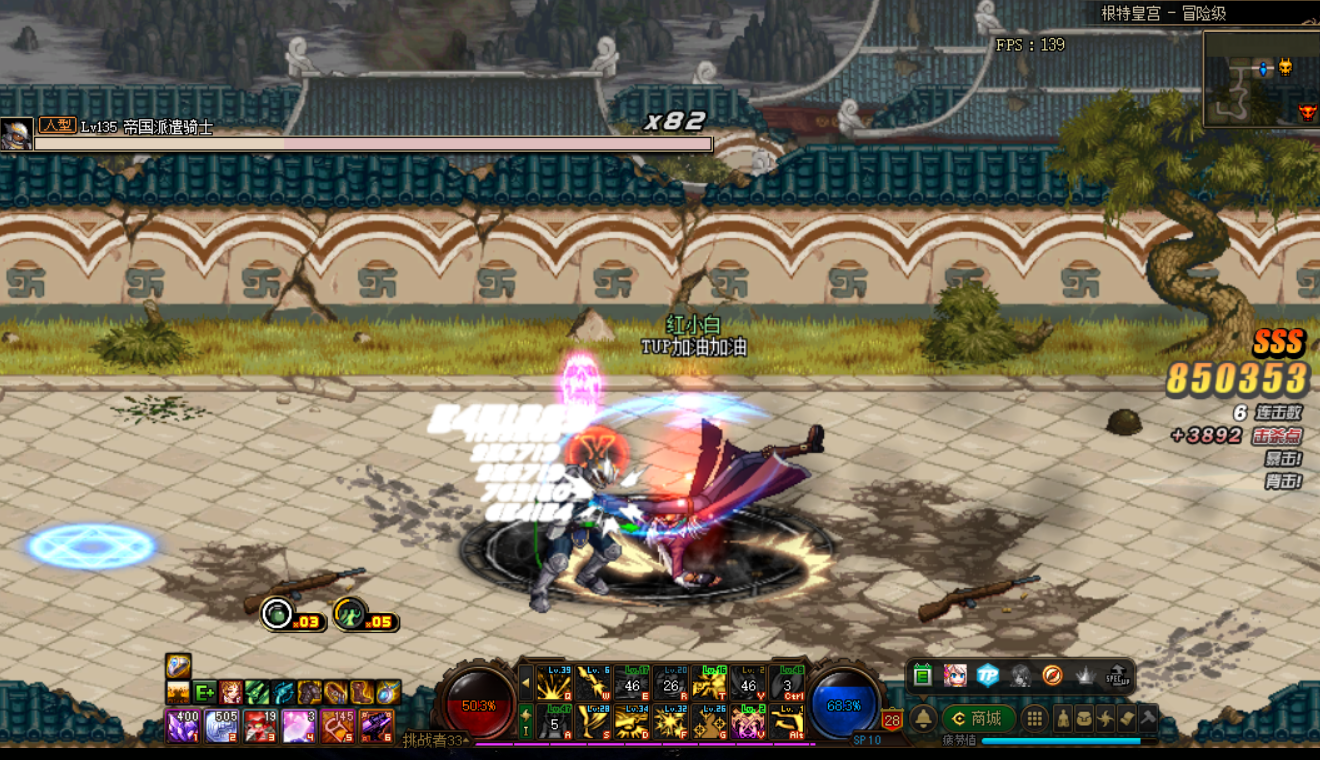monster: (529, 433, 640, 612)
warrior: (611, 397, 827, 585)
